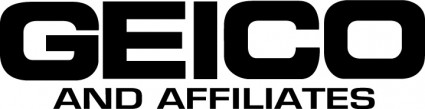Geico: (6, 2, 425, 80)
